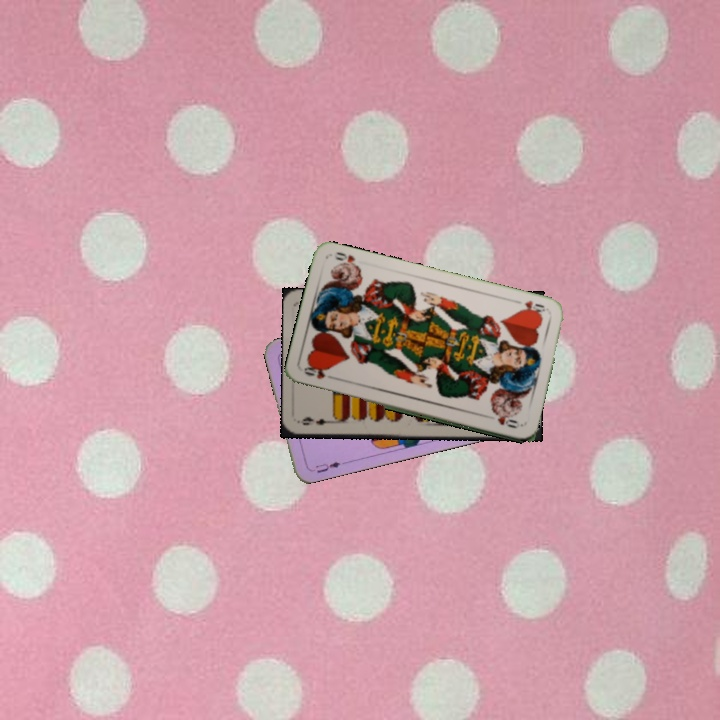E9: (297, 413, 337, 428)
EU: (307, 458, 343, 475)
HO: (516, 296, 551, 318), (300, 363, 339, 382)
